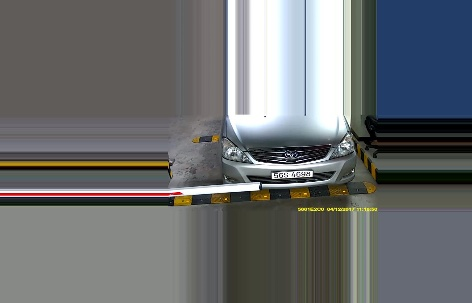plate: (271, 169, 312, 181)
